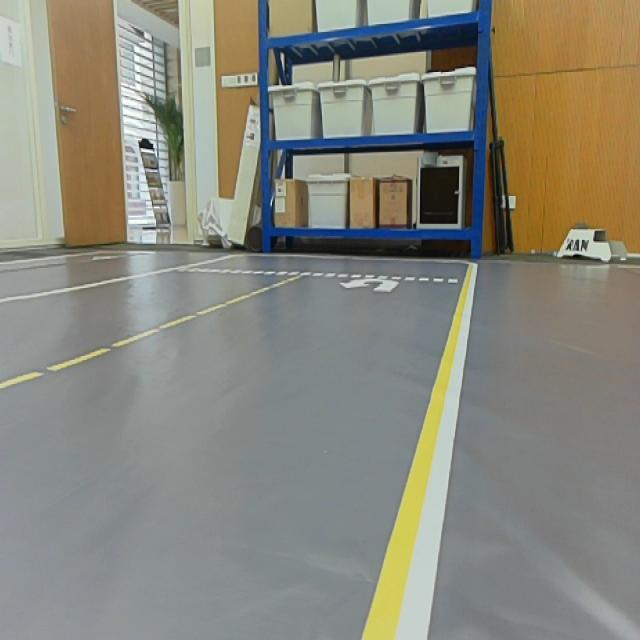left_lane: (0, 276, 297, 393)
right_lane: (363, 268, 477, 636), (1, 256, 222, 304)
